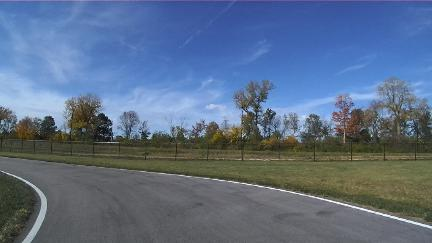Grass: (0, 153, 431, 221), (2, 140, 241, 160), (0, 173, 34, 242)
Lane: (0, 158, 431, 242)
